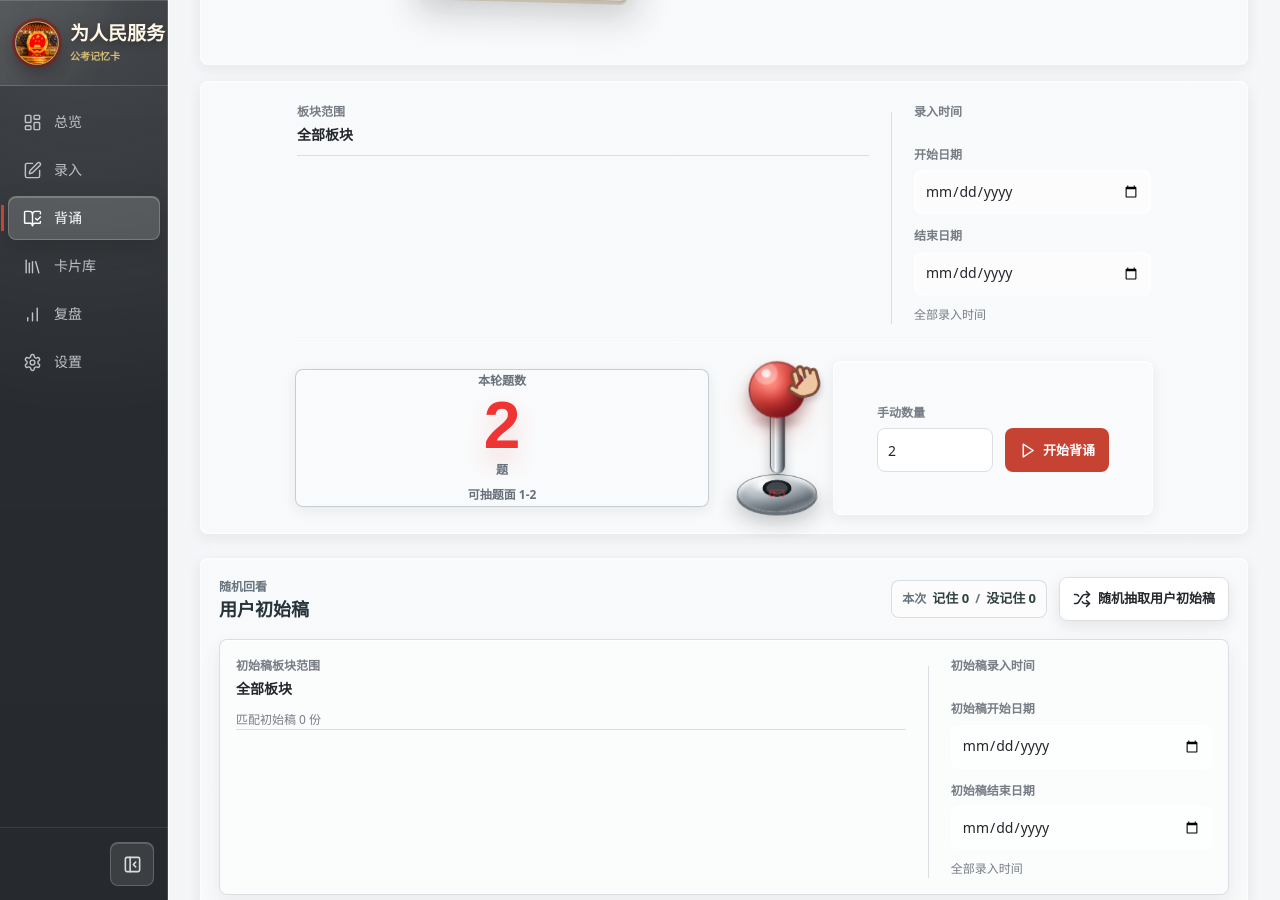
Scenario: 背诵键盘快捷操作 › n 直接提交不会、显示答案并停留当前题
(page scrolled)
Click the button "开始背诵".
click(1057, 450)  # box [1005, 428, 1109, 472]
(page scrolled)
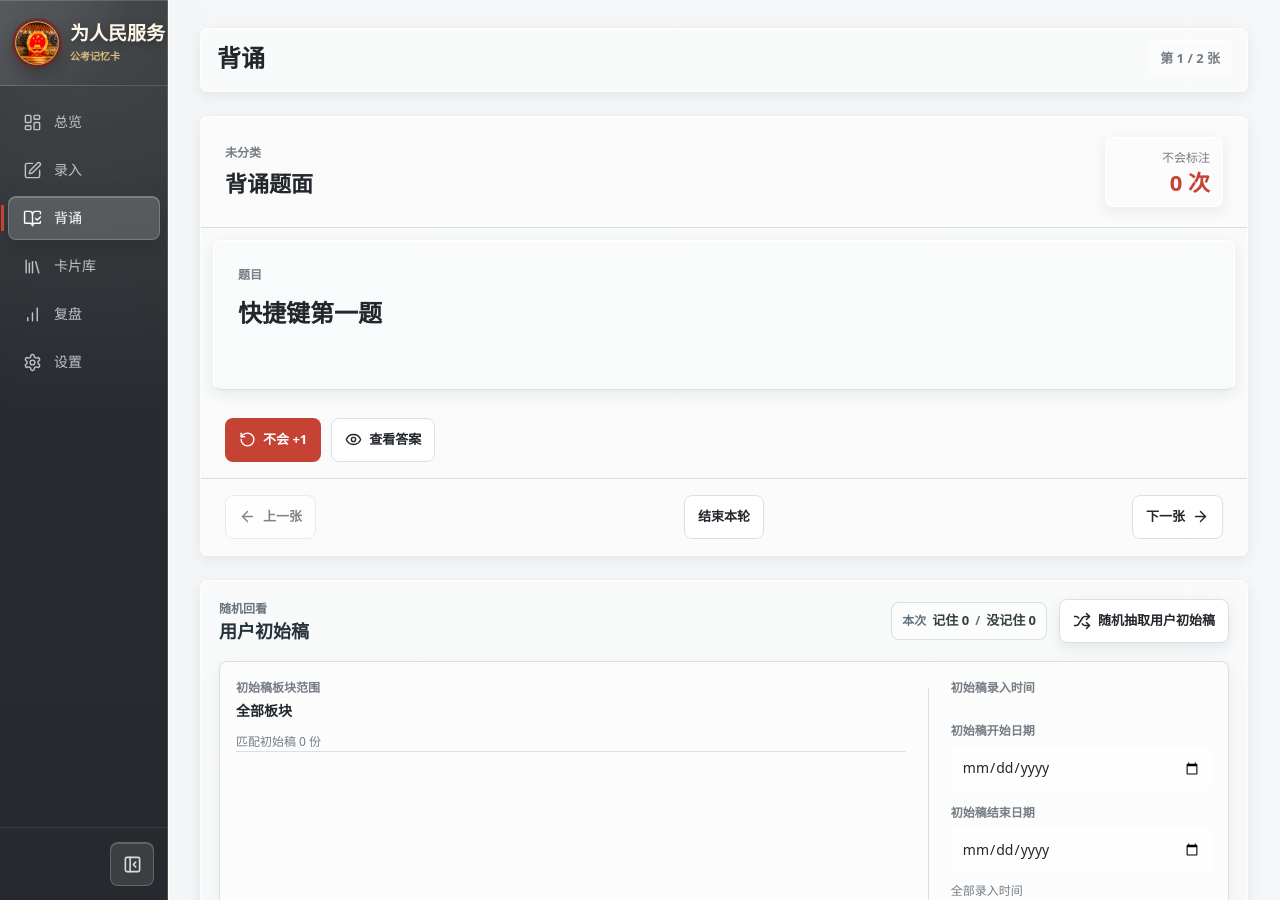
Now the text "快捷键第一题" is shown, box [238, 296, 382, 329]
Press n
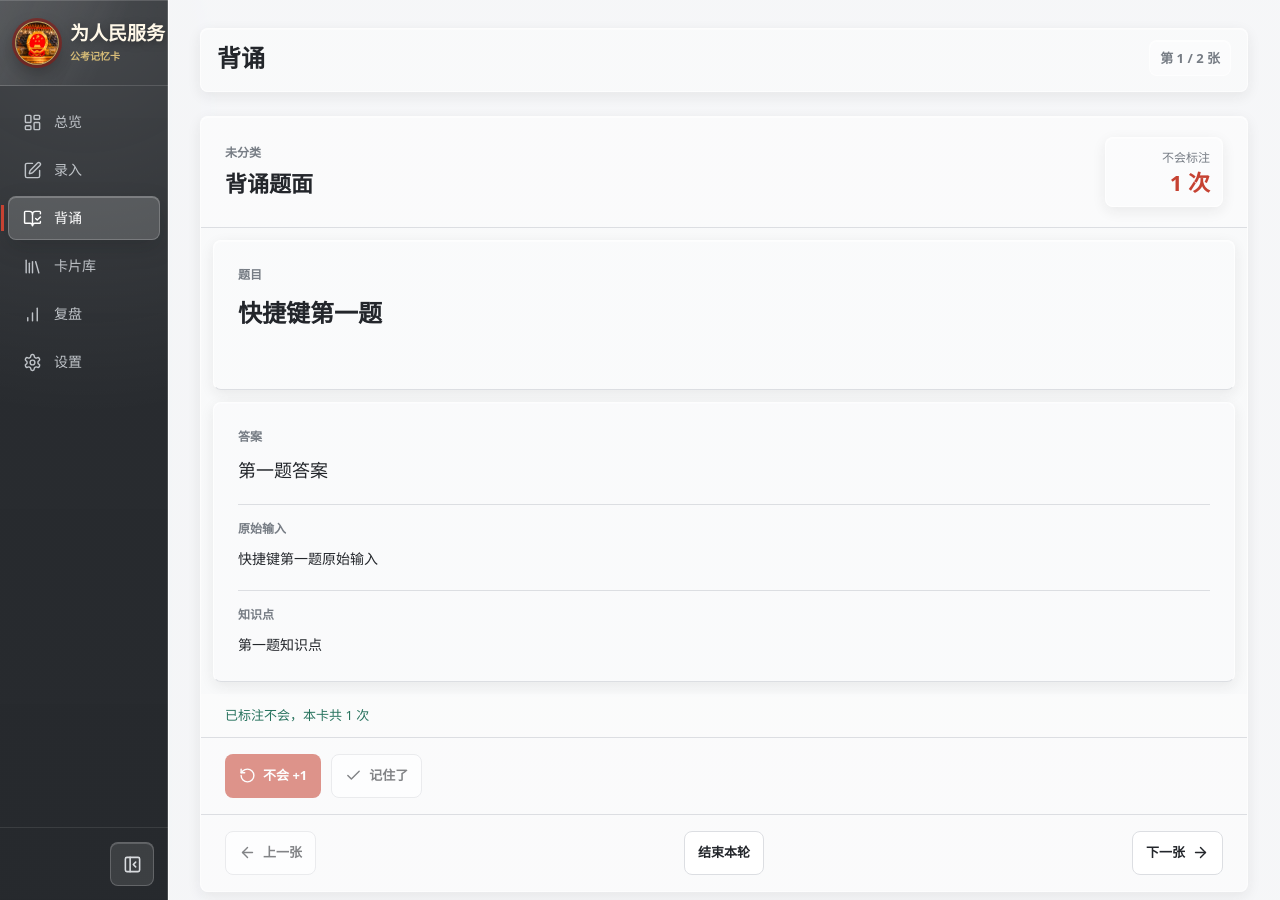
Now the text "快捷键第一题" is shown, box [238, 296, 382, 329]
Now the text "第一题答案" is shown, box [238, 458, 328, 482]
